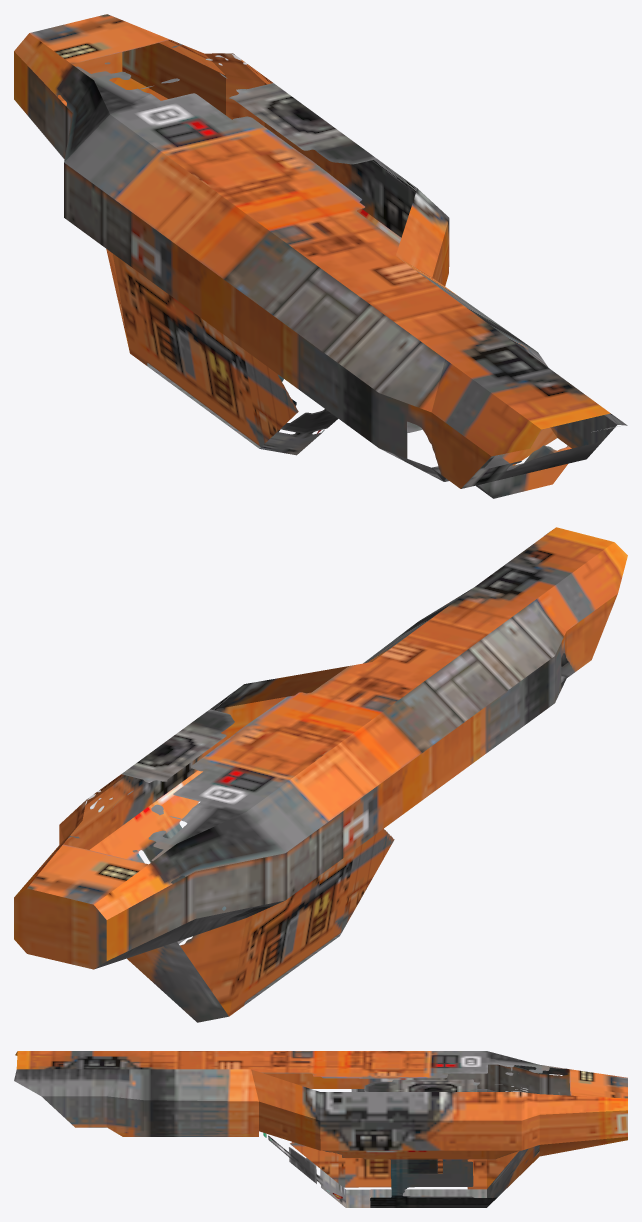
The model's file is LOD-UVFlip.obj.
3 renders of one model, top to bottom at view 1: azimuth 30°, elevation 25°; view 2: azimuth 150°, elevation 25°; view 3: azimuth 270°, elevation 25°, orthographic. The views are drawn at different scales.
Parts seen in each view (by area): view 1: frontUV, leftoverUV; view 2: frontUV, leftoverUV; view 3: frontUV, leftoverUV.
Boxes of the visible parts, x1=… form: frontUV: x1=14, y1=14, x2=627, y2=498; leftoverUV: x1=106, y1=209, x2=401, y2=446; frontUV: x1=14, y1=527, x2=627, y2=1022; leftoverUV: x1=90, y1=770, x2=394, y2=1016; frontUV: x1=14, y1=1051, x2=627, y2=1207; leftoverUV: x1=290, y1=1142, x2=519, y2=1207.
Size of the model in its own units: 3.96 by 4.24 by 16.63.
